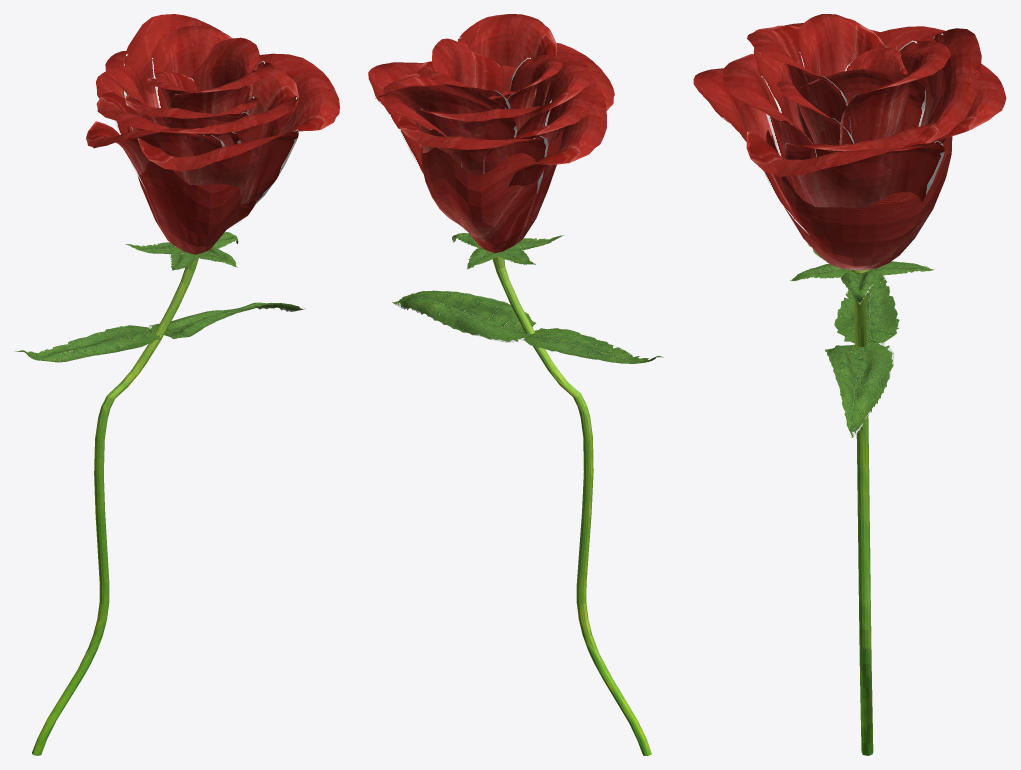
The model's file is rose_symension123_mobile.glb.
The picture shows the model from 3 angles, left to right: view 1: azimuth 30°, elevation 25°; view 2: azimuth 150°, elevation 25°; view 3: azimuth 270°, elevation 25°; orthographic projection. The views are drawn at different scales.
Parts seen in each view (by area): view 1: Sphere, pedal.016, stem, pedal.001, pedal.004, pedal.013, leaf.003, pedal, pedal.014, pedal.007, pedal.011, pedal.012 (+6 smaller); view 2: Sphere, stem, leaf.001, pedal.007, pedal.014, pedal.015, pedal.013, pedal, leaf.003, pedal.008, pedal.003, pedal.001 (+6 smaller); view 3: pedal.001, Sphere, stem, pedal.004, pedal.014, pedal.007, leaf.001, pedal.003, pedal.016, pedal.011, pedal, leaf.003 (+7 smaller).
Part boxes in pixels (x1,y1,x2,y2): Sphere: [127, 126, 255, 254]; pedal.016: [137, 129, 298, 205]; stem: [32, 258, 198, 755]; pedal.001: [259, 53, 339, 135]; pedal.004: [152, 25, 252, 113]; pedal.013: [86, 121, 240, 174]; leaf.003: [14, 325, 161, 362]; pedal: [191, 37, 259, 99]; pedal.014: [124, 14, 260, 129]; pedal.007: [170, 61, 273, 114]; pedal.011: [165, 95, 298, 145]; pedal.012: [96, 90, 224, 155]; Sphere: [421, 127, 562, 253]; stem: [492, 256, 651, 755]; leaf.001: [392, 290, 536, 342]; pedal.007: [457, 14, 557, 106]; pedal.014: [375, 85, 517, 152]; pedal.015: [398, 115, 548, 193]; pedal.013: [505, 77, 606, 188]; pedal: [432, 38, 503, 92]; leaf.003: [524, 328, 663, 363]; pedal.008: [516, 52, 591, 136]; pedal.003: [507, 55, 561, 108]; pedal.001: [368, 62, 424, 175]; pedal.001: [746, 131, 944, 208]; Sphere: [766, 130, 952, 270]; stem: [851, 269, 873, 755]; pedal.004: [839, 40, 950, 144]; pedal.014: [891, 28, 981, 151]; pedal.007: [747, 25, 851, 144]; leaf.001: [825, 342, 894, 437]; pedal.003: [798, 14, 886, 76]; pedal.016: [693, 68, 809, 235]; pedal.011: [723, 53, 816, 158]; pedal: [795, 68, 925, 144]; leaf.003: [834, 276, 899, 343].
Bounding box in the file's own units: 901 × 1923 × 667.
Materials: 3 (3 with a texture image).
